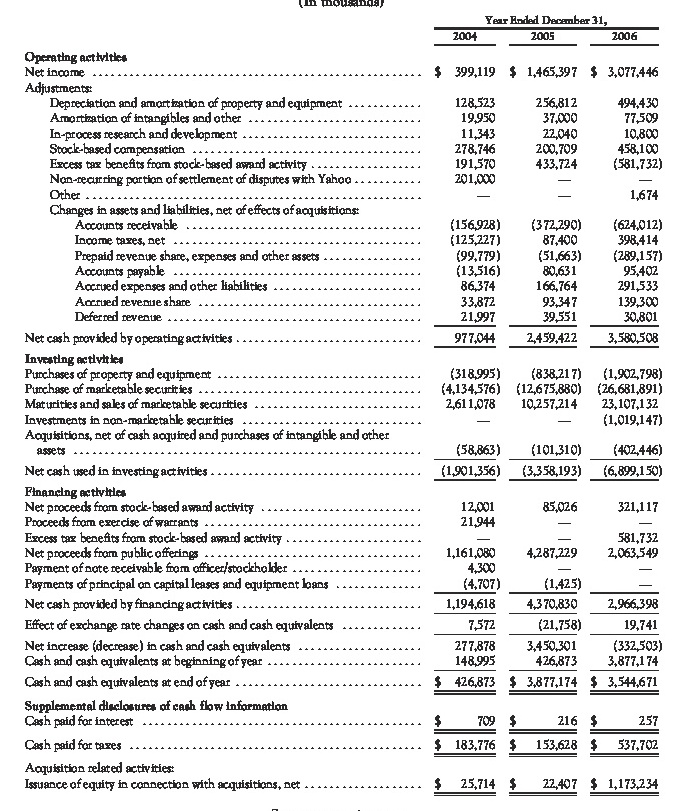table: (0, 0, 678, 811)
